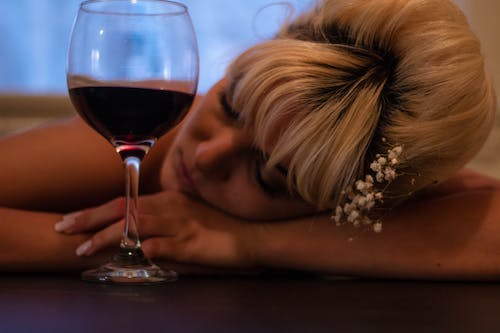alcohol: (65, 0, 200, 285)
